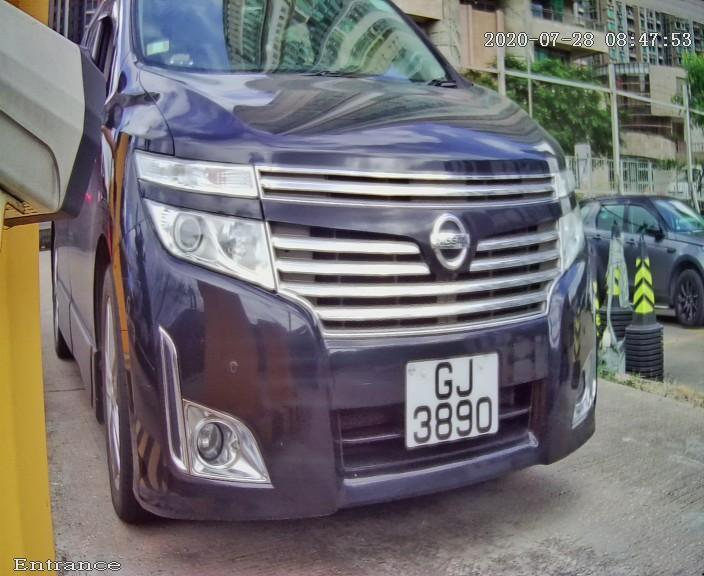privatecar: (26, 3, 664, 559)
